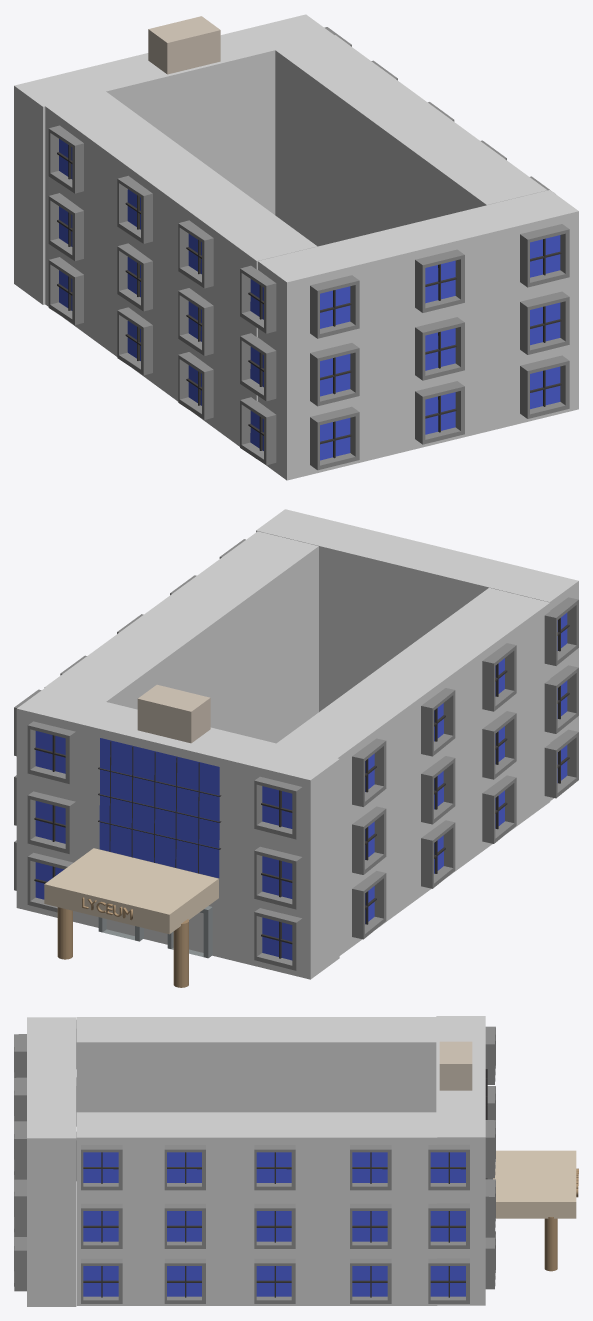
Rendered from lyceum.glb.
3 views of the same model, one above another, from view 1: azimuth 30°, elevation 25°; view 2: azimuth 150°, elevation 25°; view 3: azimuth 270°, elevation 25° (orthographic). The views are drawn at different scales.
Parts seen in each view (by area): view 1: Cube.001, Cube.088, Cube.038, Cube.040, Cube.042, Cube.032, Cube.034, Cube.048, Cube.046, Cube.036, Cube.044, Cube.050 (+20 smaller); view 2: Cube.001, Plane.001, Cube.085, Cube.088, Cube.054, Cube.050, Cube.052, Cube.056, Cube.058, Cube.060, Cube.070, Cube.072 (+18 smaller); view 3: Cube.001, Cube.085, Cube.088, Cube.006, Cube.004, Cube.007, Cube.009, Cube.011, Cube.015, Cube.017, Cube.019, Cube.021 (+31 smaller).
Part boxes in pixels (x1,y1,x2,y2): Cube.001: (14,14,578,480); Cube.088: (148,16,220,74); Cube.038: (415,249,464,312); Cube.040: (415,317,464,380); Cube.042: (415,381,464,444); Cube.032: (520,224,569,287); Cube.034: (520,291,569,354); Cube.048: (310,406,359,470); Cube.046: (310,343,359,406); Cube.036: (520,355,569,418); Cube.044: (310,275,359,338); Cube.050: (240,265,276,333); Cube.001: (16,509,578,979); Plane.001: (99,738,219,878); Cube.085: (44,848,218,934); Cube.088: (137,684,210,743); Cube.054: (544,729,578,798); Cube.050: (544,597,578,665); Cube.052: (544,665,578,733); Cube.056: (482,643,516,711); Cube.058: (482,711,516,779); Cube.060: (482,775,516,843); Cube.070: (352,806,386,874); Cube.072: (352,871,386,939); Cube.001: (27,1016,485,1306); Cube.085: (493,1150,576,1218); Cube.088: (439,1041,472,1090); Cube.006: (83,1152,118,1183); Cube.004: (256,1152,291,1183); Cube.007: (352,1152,387,1183); Cube.009: (430,1152,465,1183); Cube.011: (83,1211,118,1242); Cube.015: (256,1211,291,1242); Cube.017: (352,1211,387,1242); Cube.019: (430,1211,465,1242); Cube.021: (83,1266,118,1297).
Bounding box in the file's own units: 10.32 × 7.23 × 18.96.
